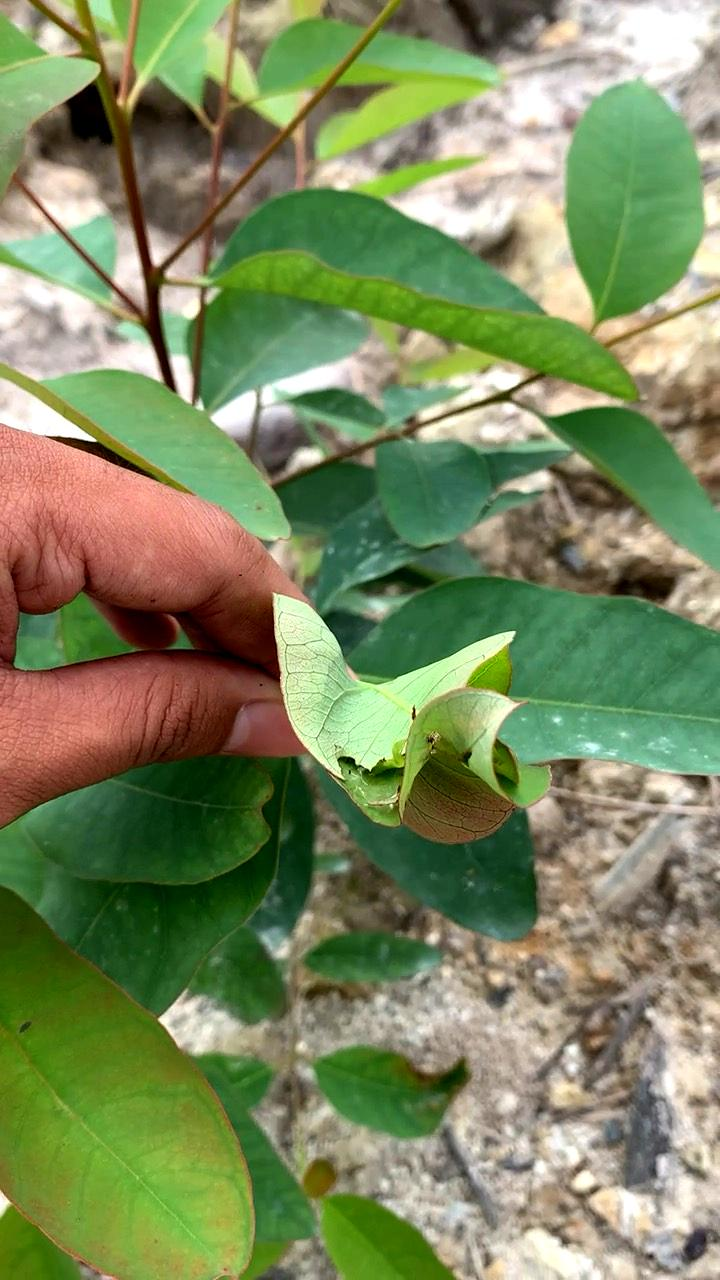Leaf Roller - Leaf: (258, 563, 543, 882)
